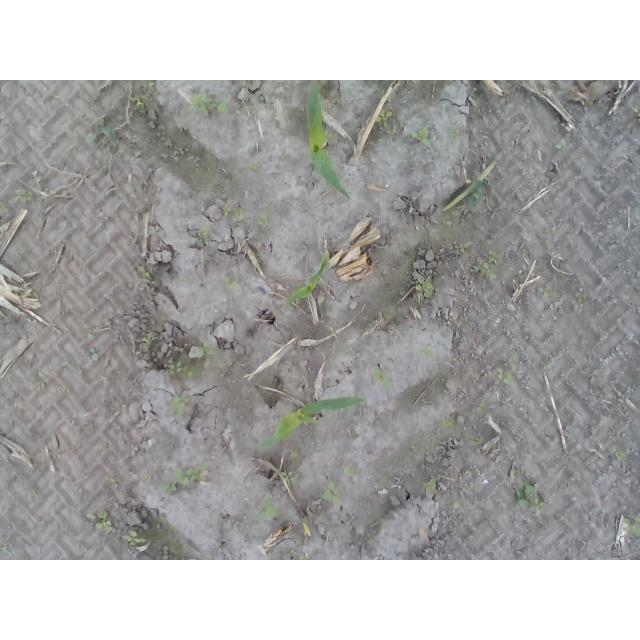Maize: (256, 395, 369, 448), (308, 80, 353, 202), (284, 250, 328, 307)
Weeds: (159, 465, 209, 496), (85, 115, 119, 152), (513, 480, 544, 512), (186, 93, 230, 115), (255, 496, 277, 528), (222, 199, 249, 225), (85, 512, 113, 537), (476, 249, 497, 282), (494, 359, 519, 386), (463, 177, 483, 208), (321, 480, 344, 505), (406, 126, 433, 146), (168, 359, 197, 377), (375, 109, 394, 135), (373, 366, 392, 391), (624, 511, 640, 537), (170, 398, 190, 418), (121, 530, 145, 546), (126, 95, 146, 114), (414, 281, 434, 299), (197, 342, 216, 358), (89, 346, 104, 363), (251, 215, 273, 226), (143, 335, 160, 349), (343, 462, 357, 479), (423, 478, 436, 496), (609, 447, 625, 461), (224, 276, 241, 289), (576, 288, 589, 305), (449, 128, 465, 141), (415, 348, 433, 359), (16, 190, 32, 202), (137, 266, 153, 278), (476, 400, 488, 416), (439, 419, 456, 430), (460, 482, 474, 495), (280, 471, 296, 482), (556, 141, 572, 152), (0, 542, 12, 556), (248, 158, 257, 174), (580, 99, 592, 111), (538, 287, 551, 298), (199, 223, 209, 237), (179, 274, 190, 285), (457, 240, 466, 253), (142, 80, 155, 89), (0, 202, 8, 214), (471, 436, 481, 445), (32, 488, 41, 497), (143, 473, 153, 481), (452, 502, 460, 511), (240, 80, 248, 88)
